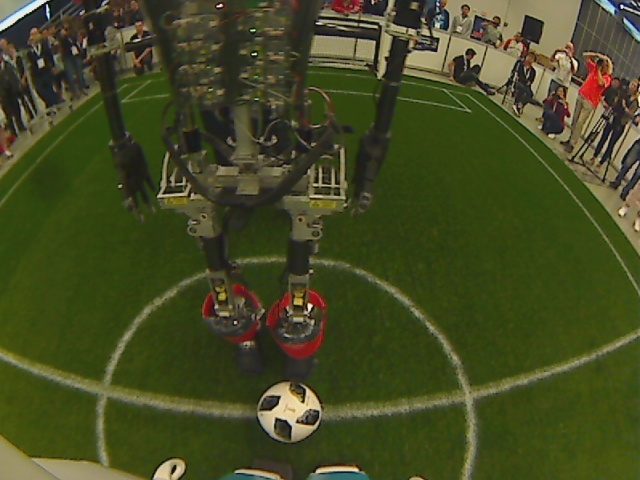ball: (253, 378, 327, 447)
